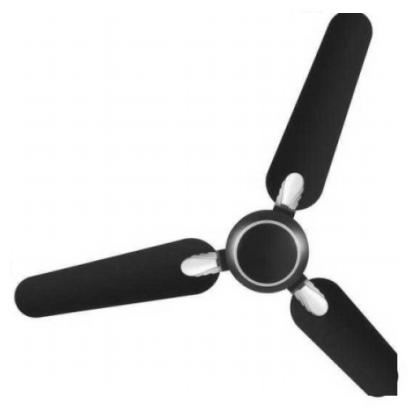ceiling-fan: (12, 13, 398, 397)
